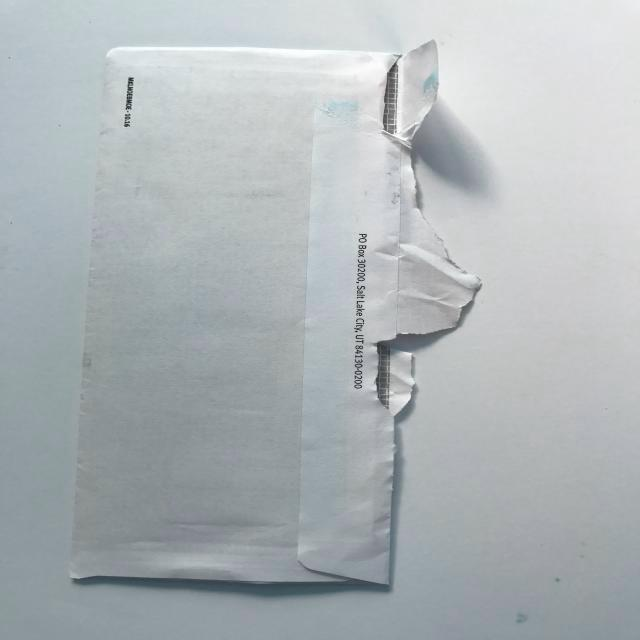paper: (69, 38, 484, 587)
